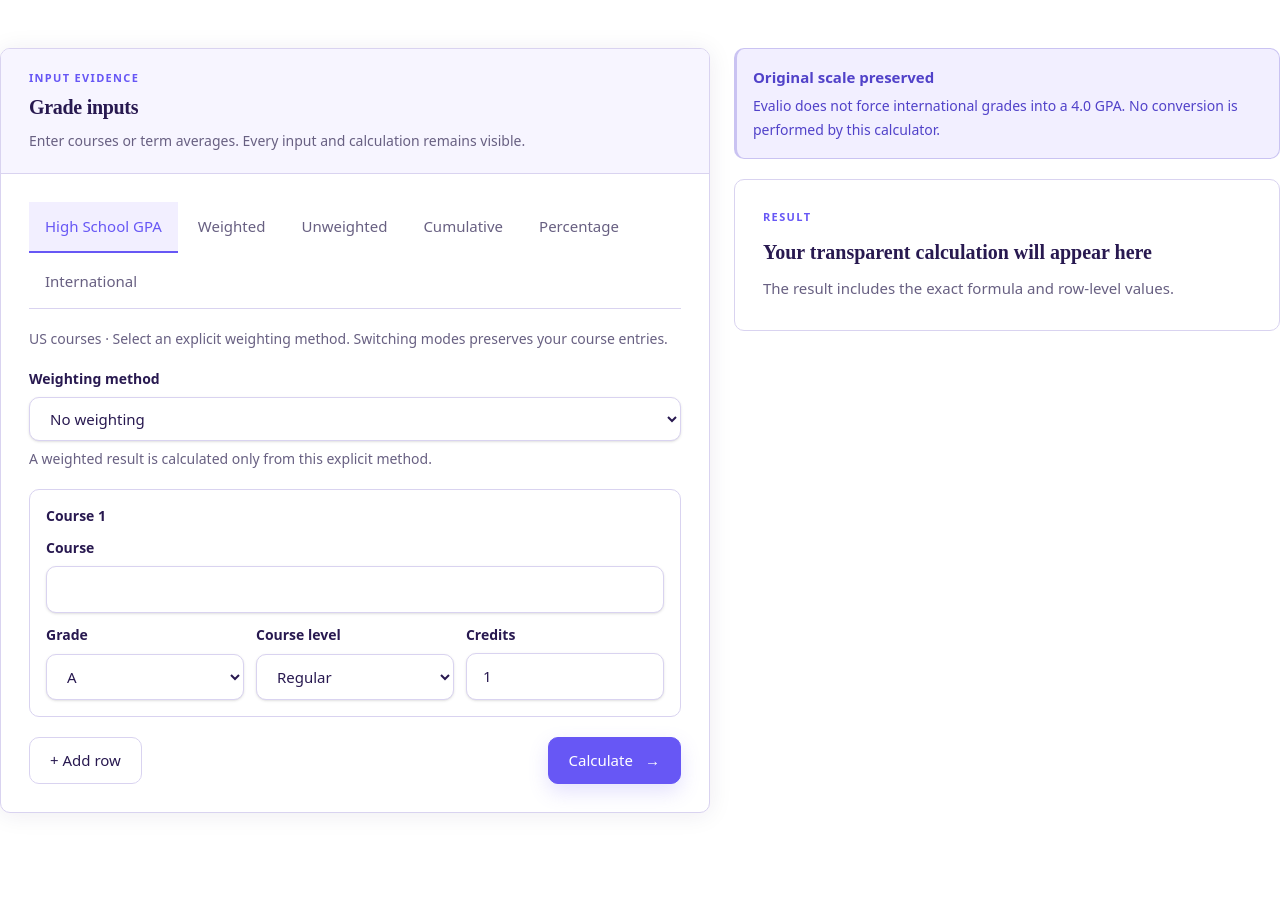
Scenario: Astra interaction and data integrity › preserves course drafts across the six GPA modes
The width and height of the screenshot is (1280, 900).
Expected: the number of tabs is 6, x1=29 y1=202 x2=178 y2=253; x1=182 y1=202 x2=281 y2=253; x1=285 y1=202 x2=403 y2=253; x1=407 y1=202 x2=519 y2=253; x1=523 y1=202 x2=635 y2=253; x1=29 y1=257 x2=153 y2=308
Type "Calculus" into the field labelled "Course" at [355, 589], box x1=46 y1=566 x2=664 y2=613
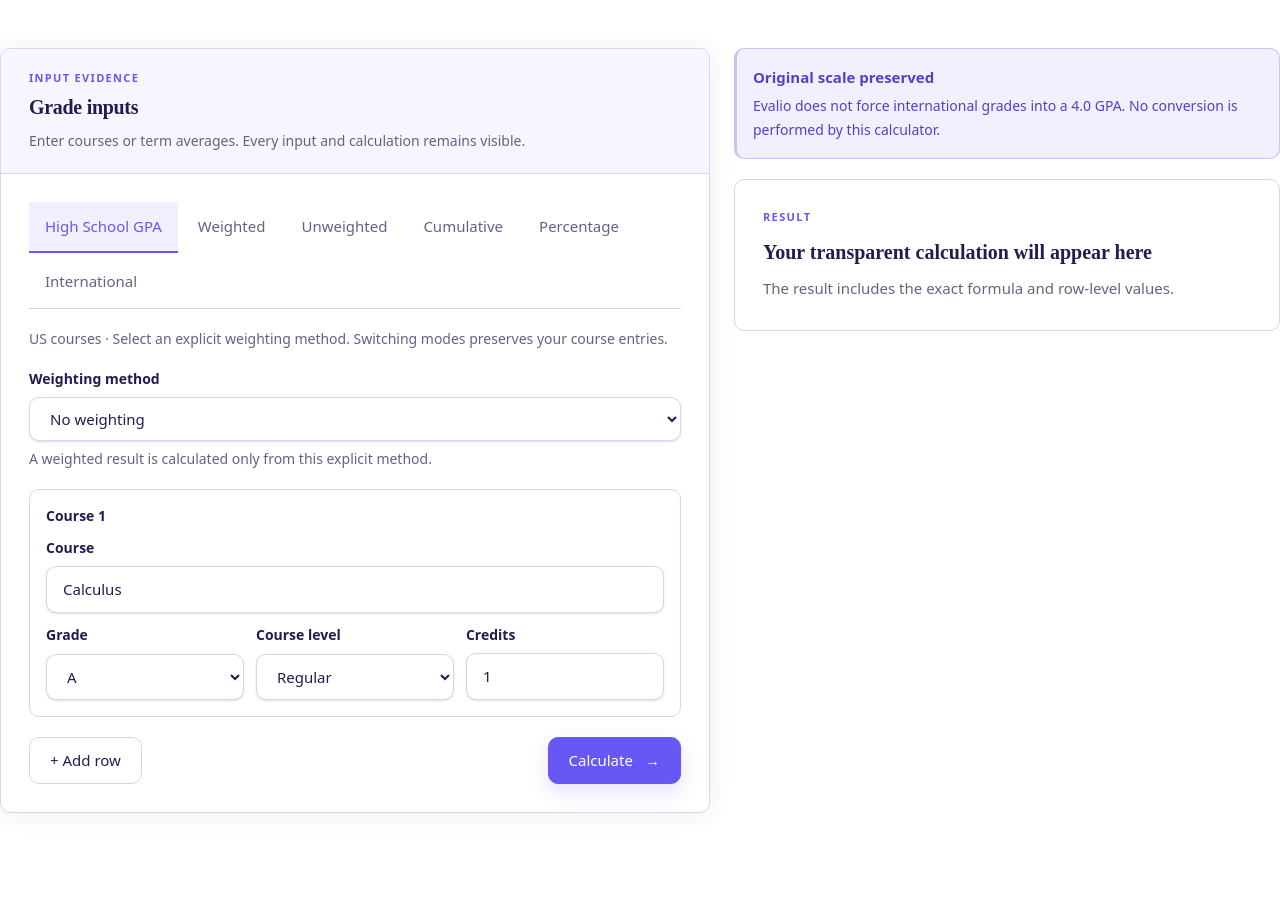
Click the tab "International" at [91, 283], box x1=29 y1=257 x2=153 y2=308
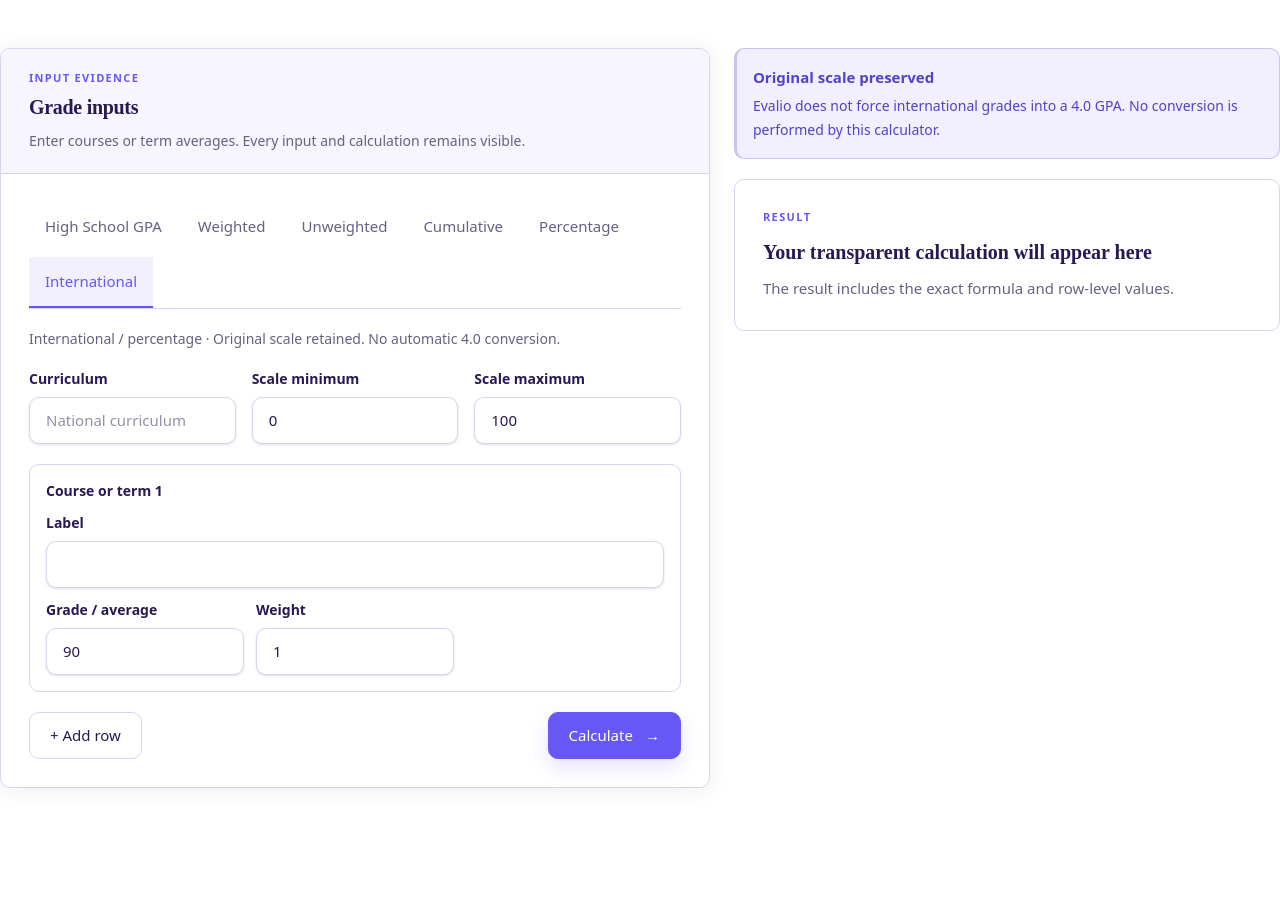
Type "Semester 1" into the field labelled "Label" at [355, 564], box x1=46 y1=541 x2=664 y2=588
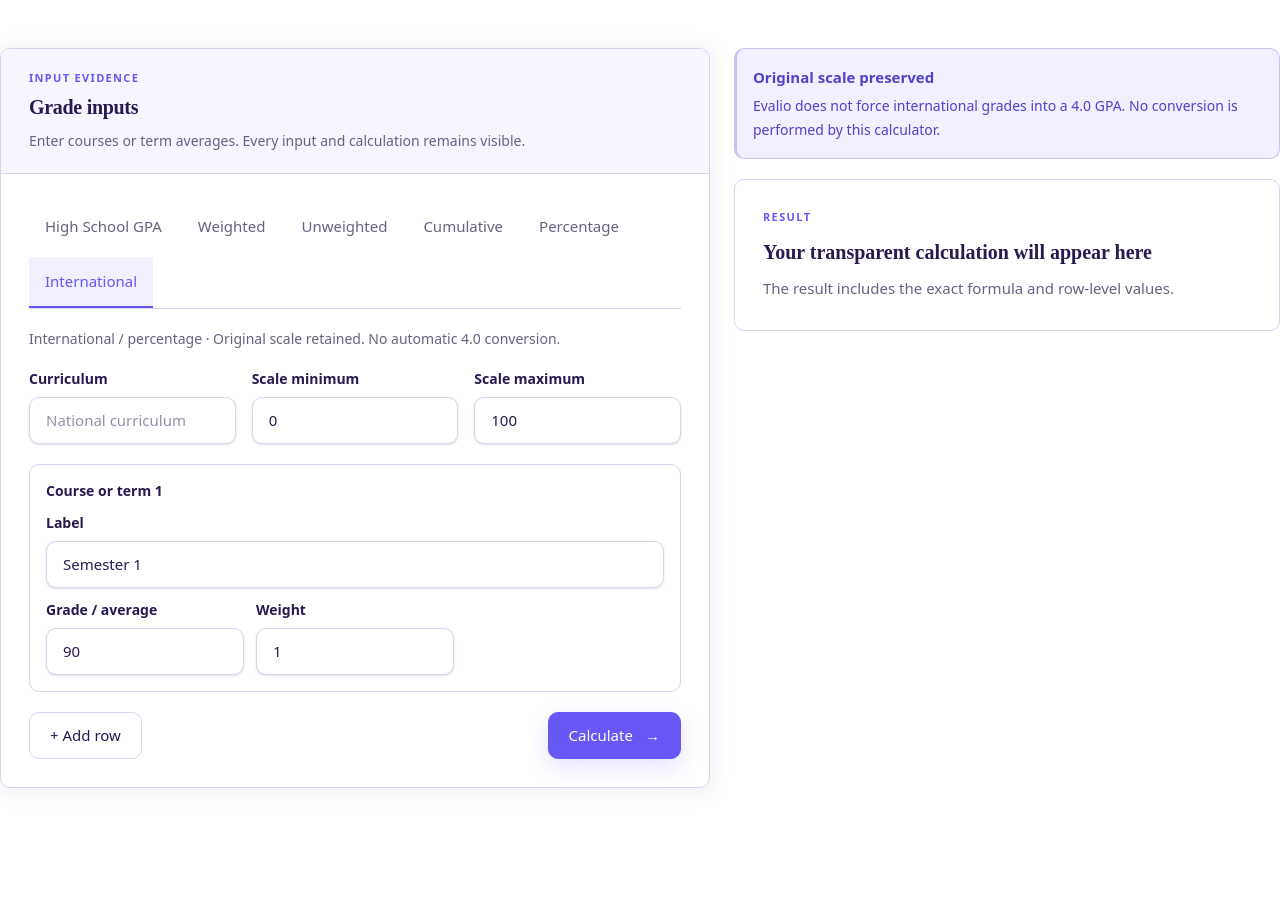
Click the tab "High School GPA" at [103, 228], box x1=29 y1=202 x2=178 y2=253
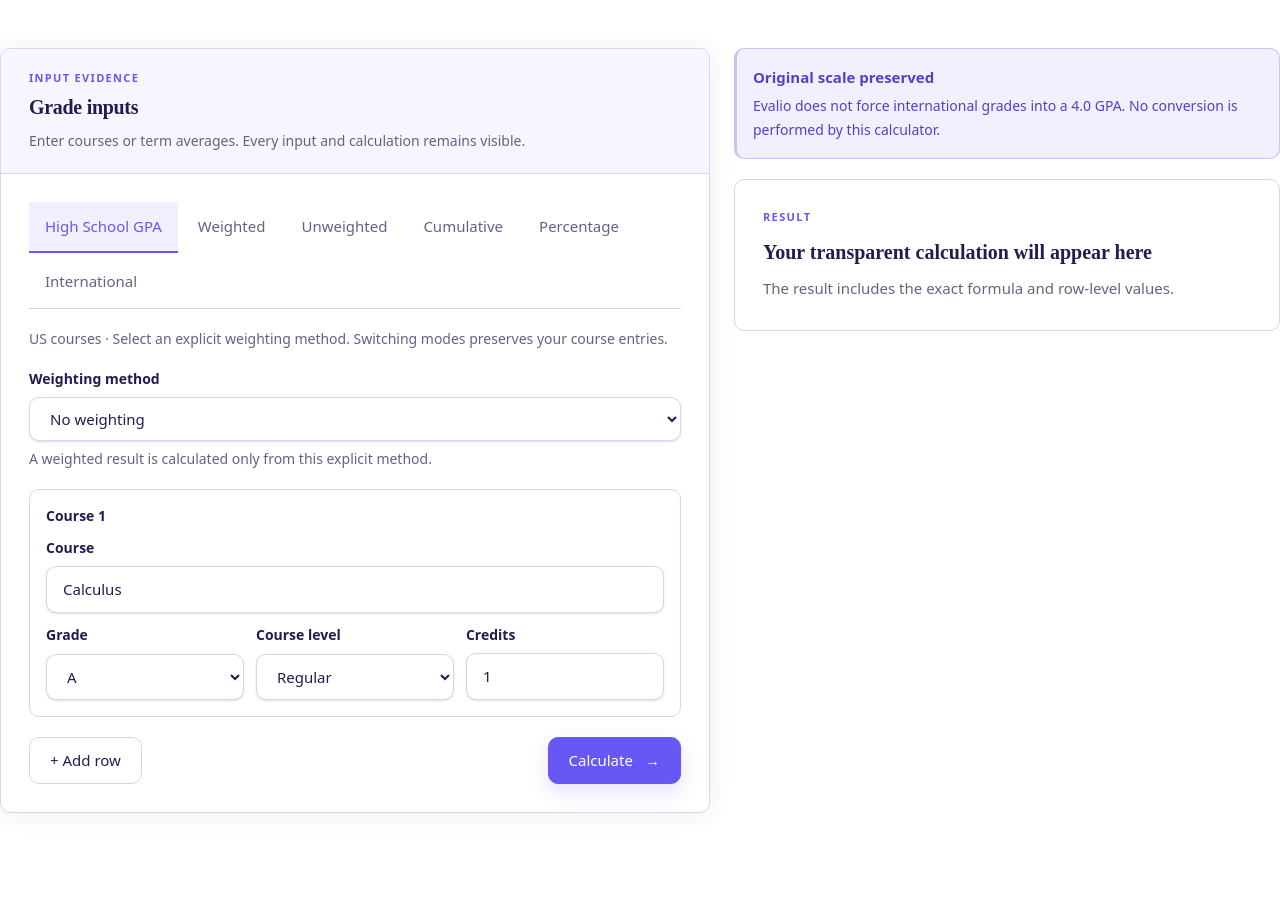
Result: the field labelled "Course" holds "Calculus" at x1=46 y1=566 x2=664 y2=613
Click the tab "International" at [91, 283], box x1=29 y1=257 x2=153 y2=308
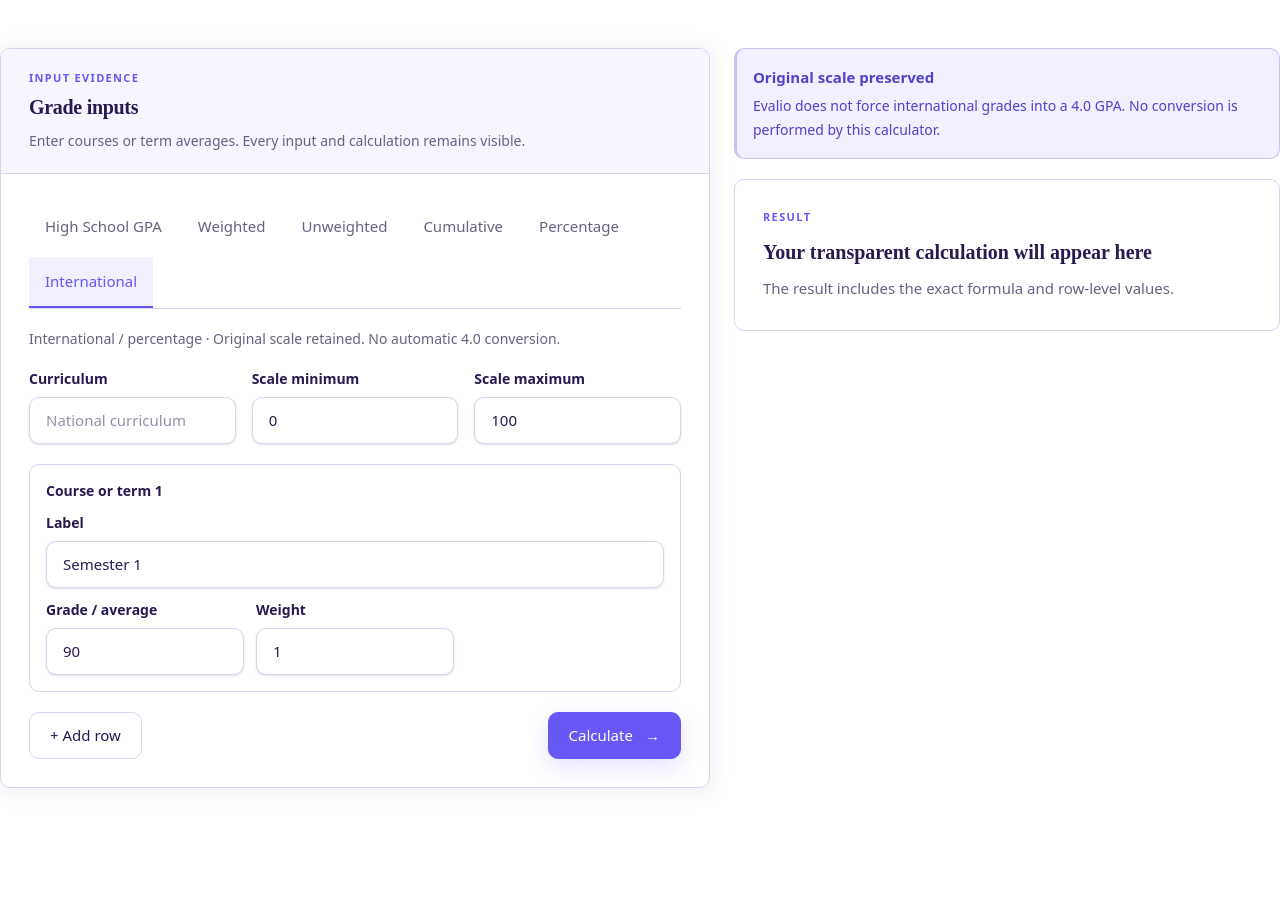
Result: the field labelled "Label" holds "Semester 1" at x1=46 y1=541 x2=664 y2=588
